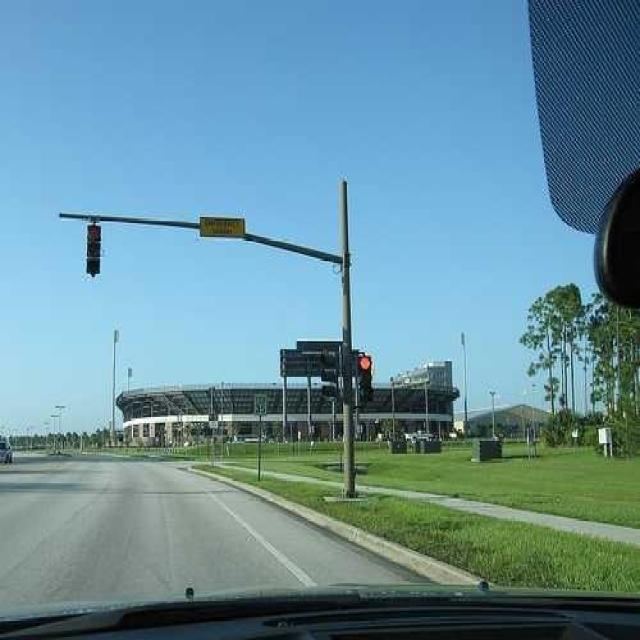Traffic Light -Red-: (86, 223, 102, 277), (357, 351, 373, 397)
